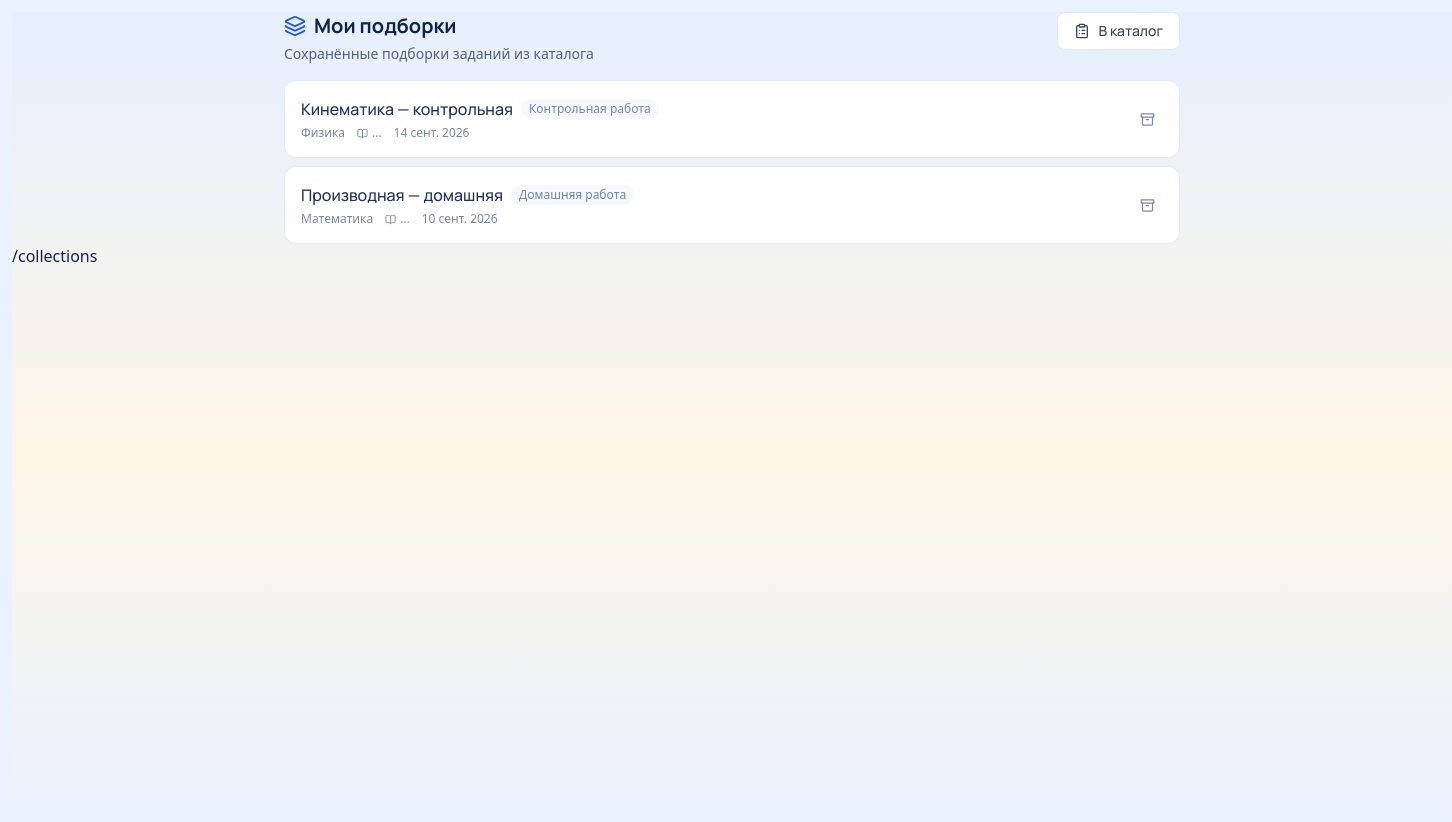
Test: CollectionsPage — «Мои подборки» (§188) › клик по карточке открывает подборку (§200)
Expected: the link "Кинематика — контрольная" is shown, 301,97 -> 513,121
Step 1. Click the link with aria-label "Открыть подборку «Кинематика — контрольная»" → [732, 119], box 284,80 -> 1180,158
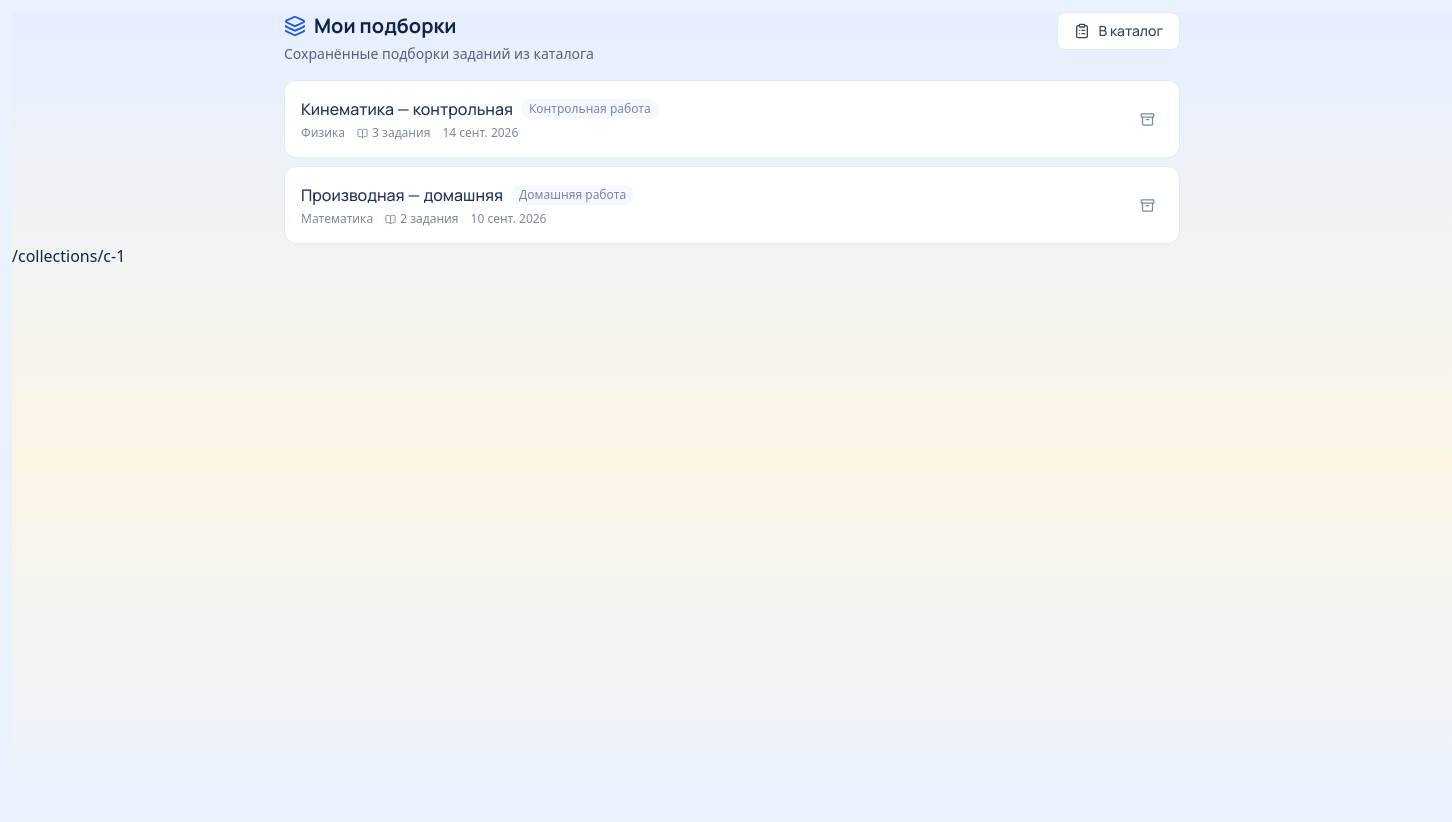
Result: the text with test id "location" reads "/collections/c-1" at 12,245 -> 125,267
